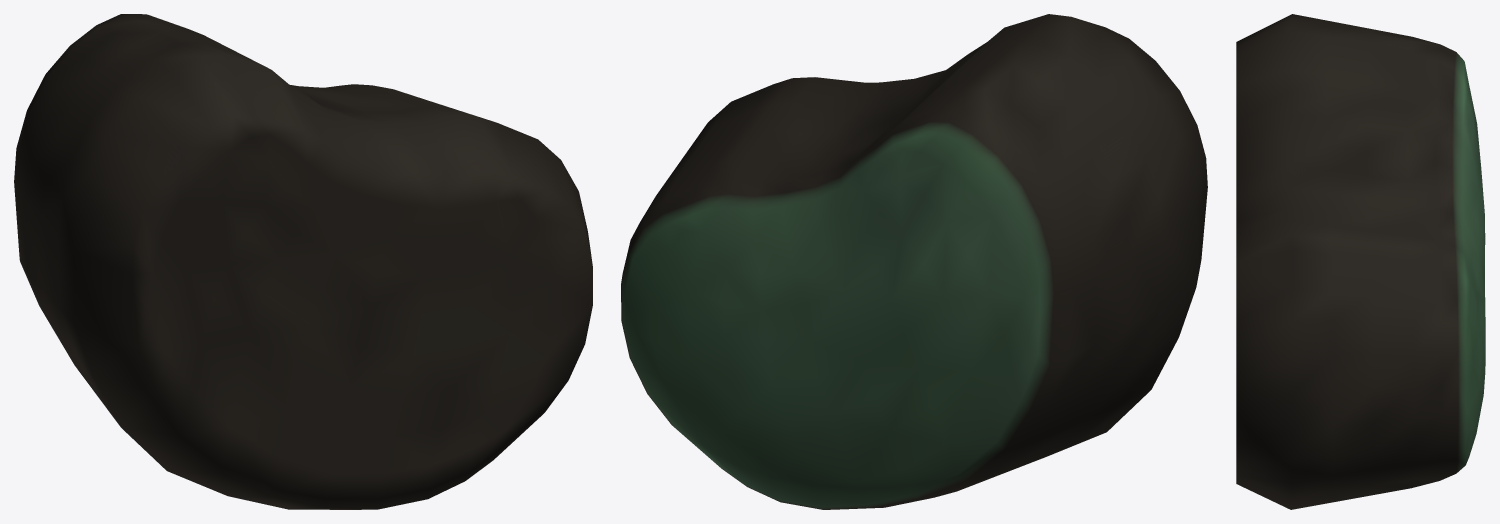
Rendered from GreenHillMedium.003.glb.
3 renders of one model, left to right at view 1: azimuth 30°, elevation 25°; view 2: azimuth 150°, elevation 25°; view 3: azimuth 270°, elevation 25°, orthographic. The views are drawn at different scales.
Parts seen in each view (by area): view 1: GreenHillMedium.003; view 2: GreenHillMedium.003; view 3: GreenHillMedium.003.
Boxes of the visible parts, box(x1,y1,x2,y2) form: GreenHillMedium.003: box(14, 14, 592, 509); GreenHillMedium.003: box(621, 14, 1207, 509); GreenHillMedium.003: box(1236, 14, 1485, 509).
Bounding box in the file's own units: 3363 × 3069 × 1732.
